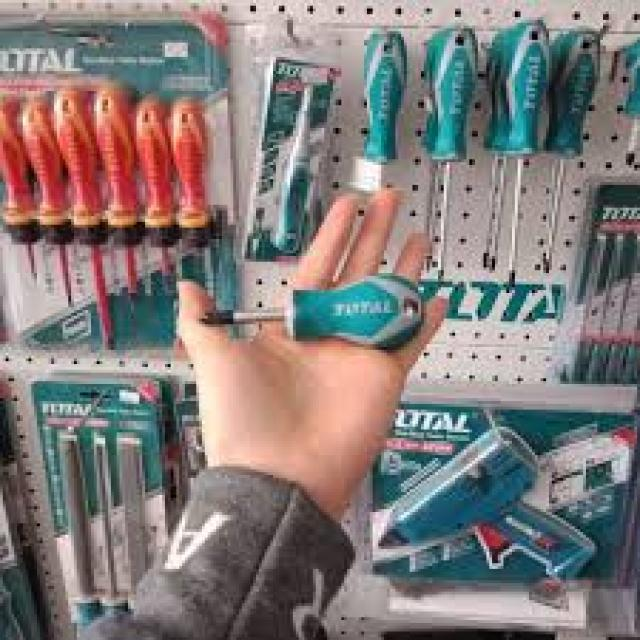screwdriver: (530, 24, 599, 278), (52, 81, 116, 349), (488, 17, 550, 293), (192, 269, 422, 343), (418, 23, 478, 279), (15, 101, 76, 306), (96, 85, 142, 308), (0, 92, 43, 286), (130, 99, 172, 296)
